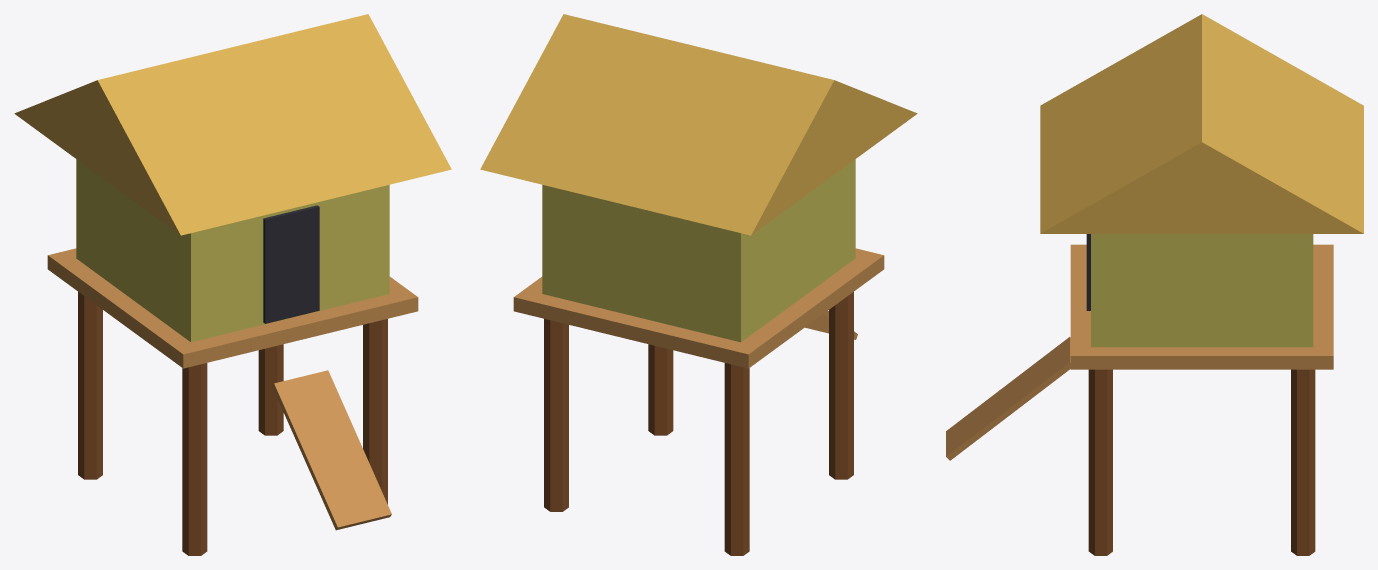
File: stilt_hut.glb
3 views of the same model, side by side, from view 1: azimuth 30°, elevation 25°; view 2: azimuth 150°, elevation 25°; view 3: azimuth 270°, elevation 25° (orthographic). The views are drawn at different scales.
Visible parts, largest first — view 1: stilt_hut; view 2: stilt_hut; view 3: stilt_hut.
Part boxes in pixels (x1=…): stilt_hut: x1=14, y1=14, x2=451, y2=555; stilt_hut: x1=480, y1=14, x2=917, y2=555; stilt_hut: x1=946, y1=14, x2=1363, y2=555.
Size of the model in its own units: 3 by 4.7 by 4.13.
